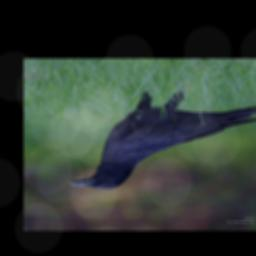Crow: (69, 81, 256, 191)
